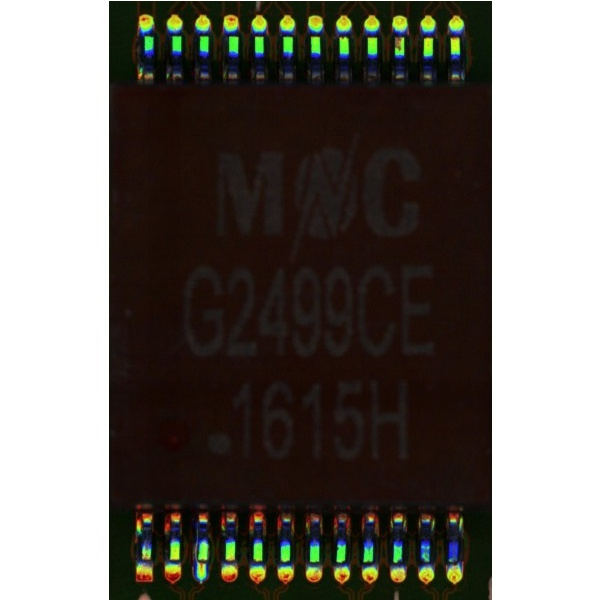Bad_podu: (198, 552, 206, 572)
